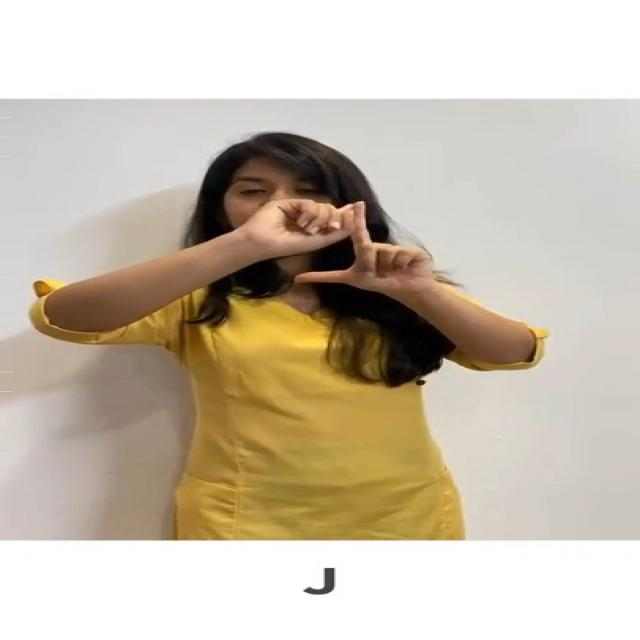J: (226, 186, 456, 305)
